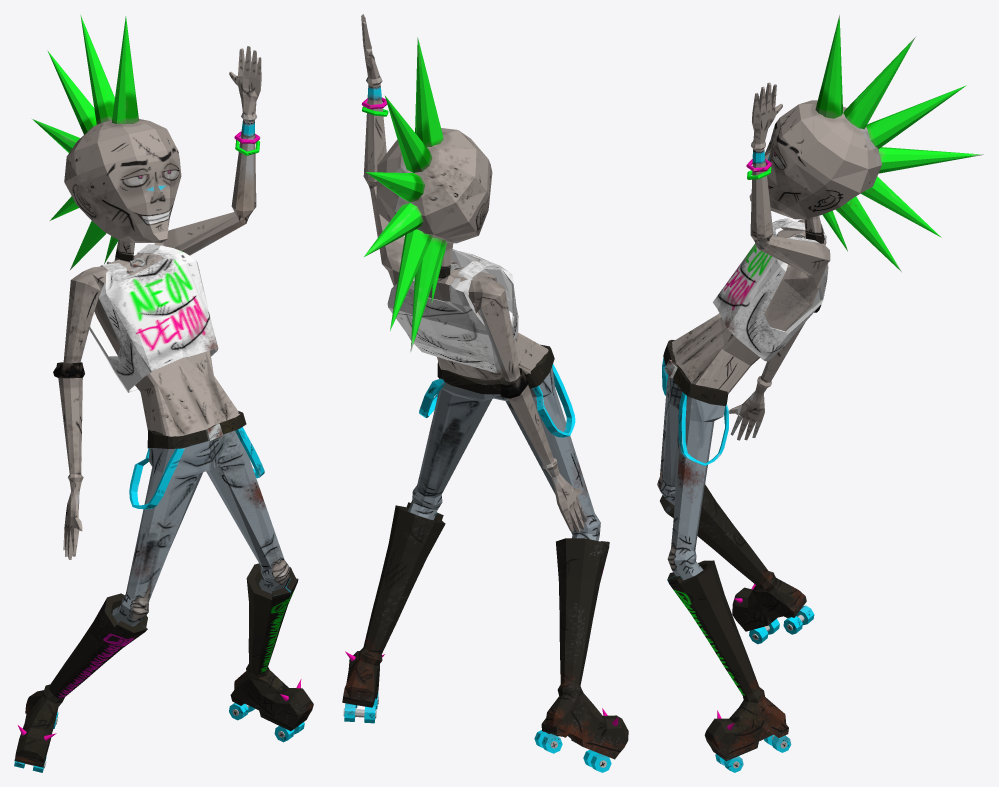
The model's file is punkAnimation_000117.obj.
3 renders of one model, left to right at view 1: azimuth 30°, elevation 25°; view 2: azimuth 150°, elevation 25°; view 3: azimuth 270°, elevation 25°, orthographic. The views are drawn at different scales.
Visible parts, largest first — view 1: Cube.004_Cube.003; view 2: Cube.004_Cube.003; view 3: Cube.004_Cube.003.
Part boxes in pixels (x1=…): Cube.004_Cube.003: x1=14, y1=15, x2=313, y2=772; Cube.004_Cube.003: x1=342, y1=14, x2=628, y2=772; Cube.004_Cube.003: x1=657, y1=15, x2=983, y2=772.
Size of the model in its own units: 2.96 by 7.1 by 3.01.
